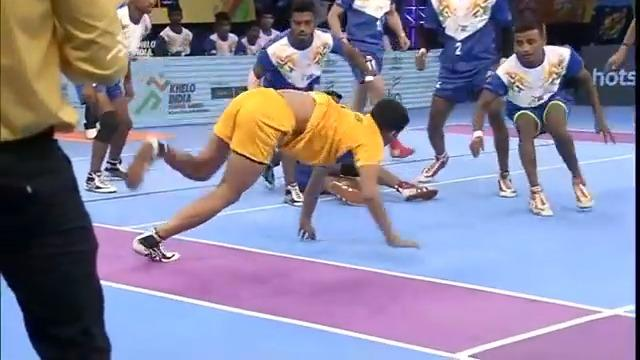Player: (469, 18, 615, 216), (246, 1, 375, 207), (414, 0, 518, 197), (81, 0, 156, 193), (326, 0, 412, 158)
Raider: (126, 86, 429, 262)
referee: (0, 0, 130, 358)
